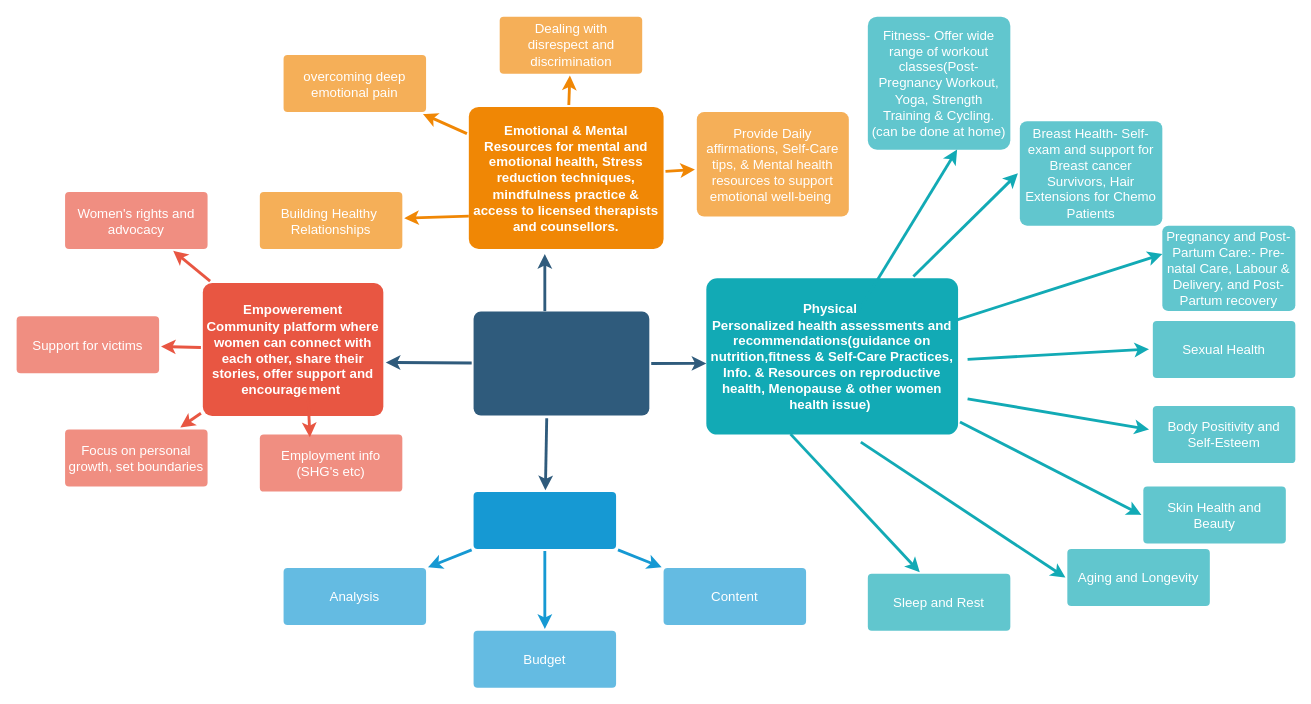
This 1311x704 diagram has some shape labels left out. The shapes that lost their labels are listed below. From the top down, each one's centre as x and y in pixels, then its label:
the point at 561,363: Female Centric Startup
the point at 544,520: other
